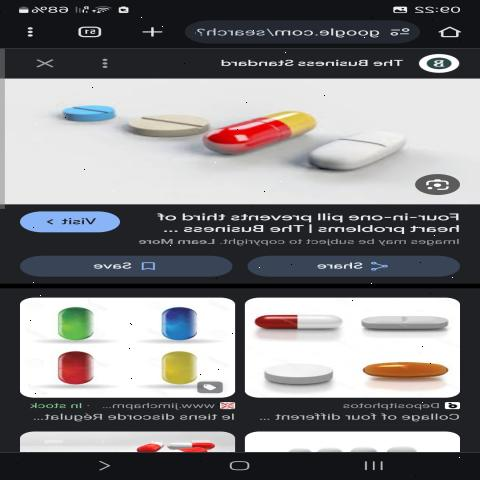Pill: (284, 124, 411, 182), (119, 106, 220, 145), (250, 307, 347, 339), (38, 96, 125, 128), (356, 309, 458, 336), (260, 358, 340, 389)
